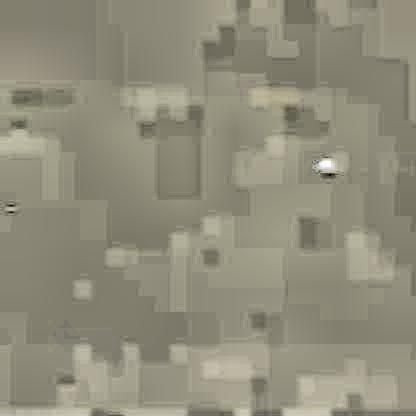golfball: (314, 155, 334, 175)
